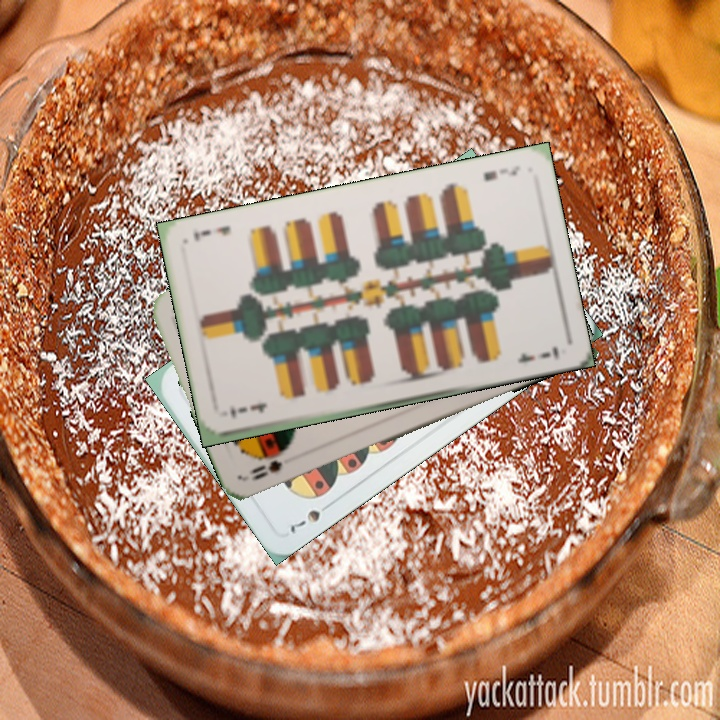E7: (478, 161, 523, 184), (227, 398, 269, 422)
S7: (286, 498, 335, 537)
SO: (244, 456, 285, 483)
